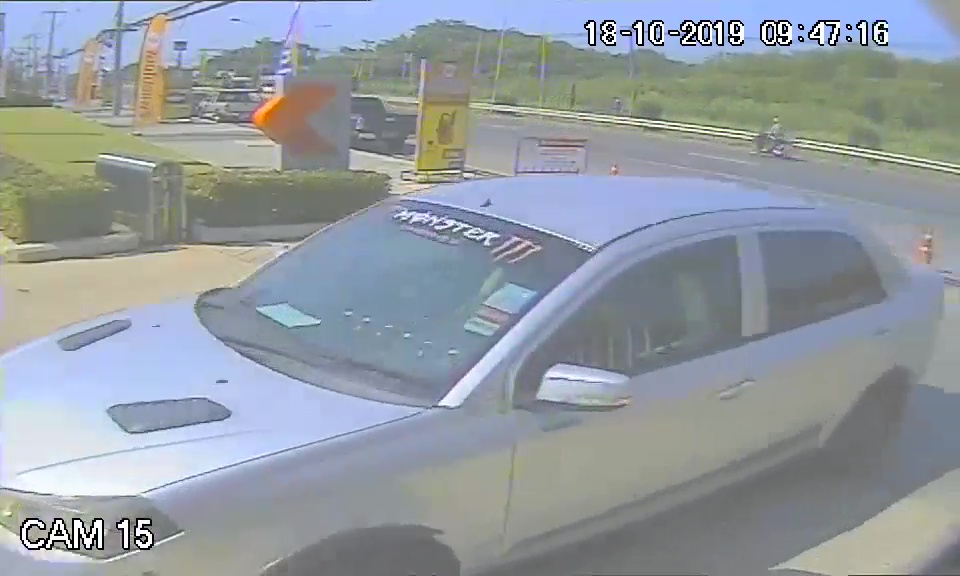sedan: (18, 172, 942, 545)
